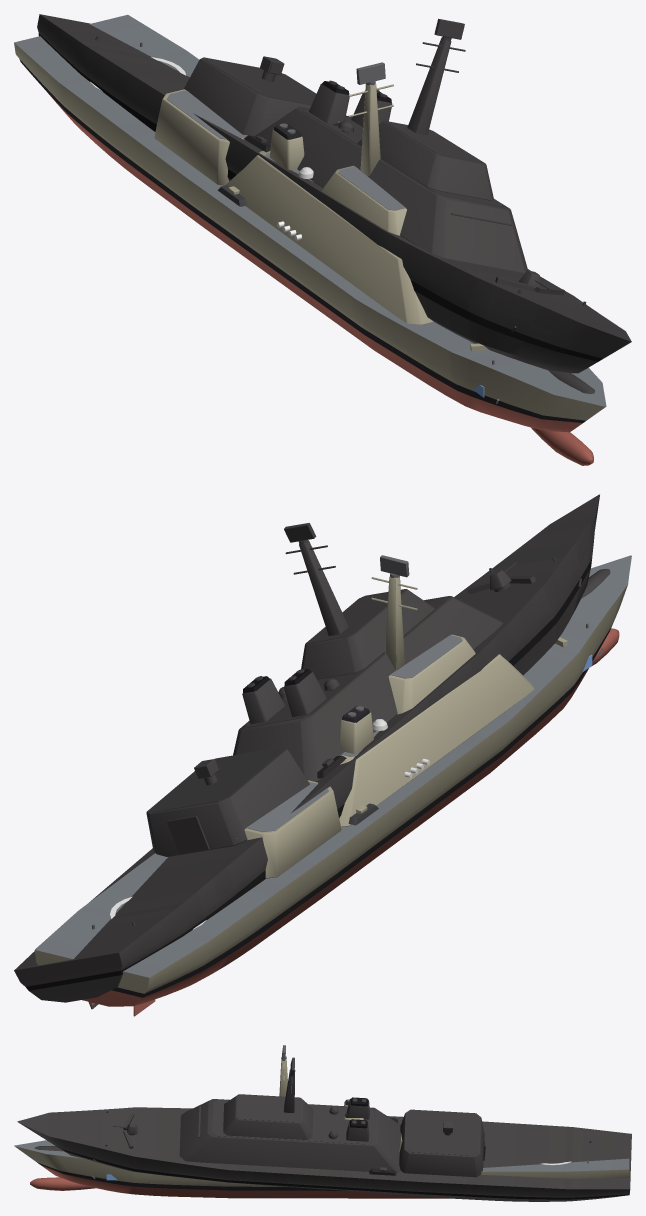
The model's file is corvette__freedom_class_lcs.glb.
3 renders of one model, top to bottom at view 1: azimuth 30°, elevation 25°; view 2: azimuth 150°, elevation 25°; view 3: azimuth 270°, elevation 25°, orthographic. The views are drawn at different scales.
Parts seen in each view (by area): view 1: Hull_Mesh, Wreck; view 2: Wreck, Hull_Mesh; view 3: Wreck, Hull_Mesh.
Boxes of the visible parts, bbox=[...] form: Hull_Mesh: bbox=[14, 14, 606, 465]; Wreck: bbox=[37, 14, 631, 394]; Wreck: bbox=[14, 494, 610, 1009]; Hull_Mesh: bbox=[34, 555, 631, 1016]; Wreck: bbox=[17, 1057, 631, 1201]; Hull_Mesh: bbox=[14, 1059, 629, 1198].
Size of what is drawn, in the model's own units: 22.23 by 34.35 by 124.
